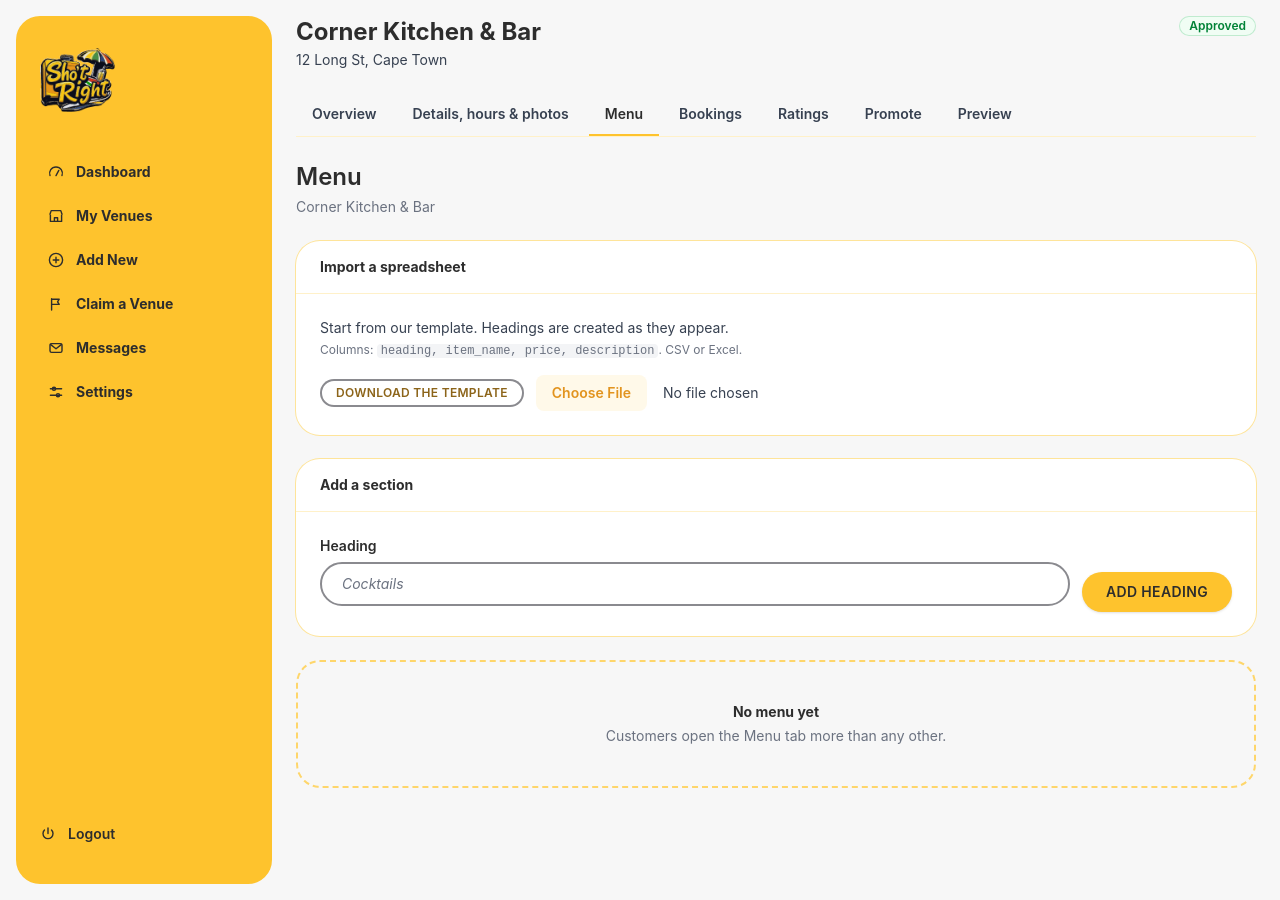
Test case: add a menu › creates a heading on the server
In the field labelled "Heading": (695, 584) [320, 562, 1070, 606], type "Starters"
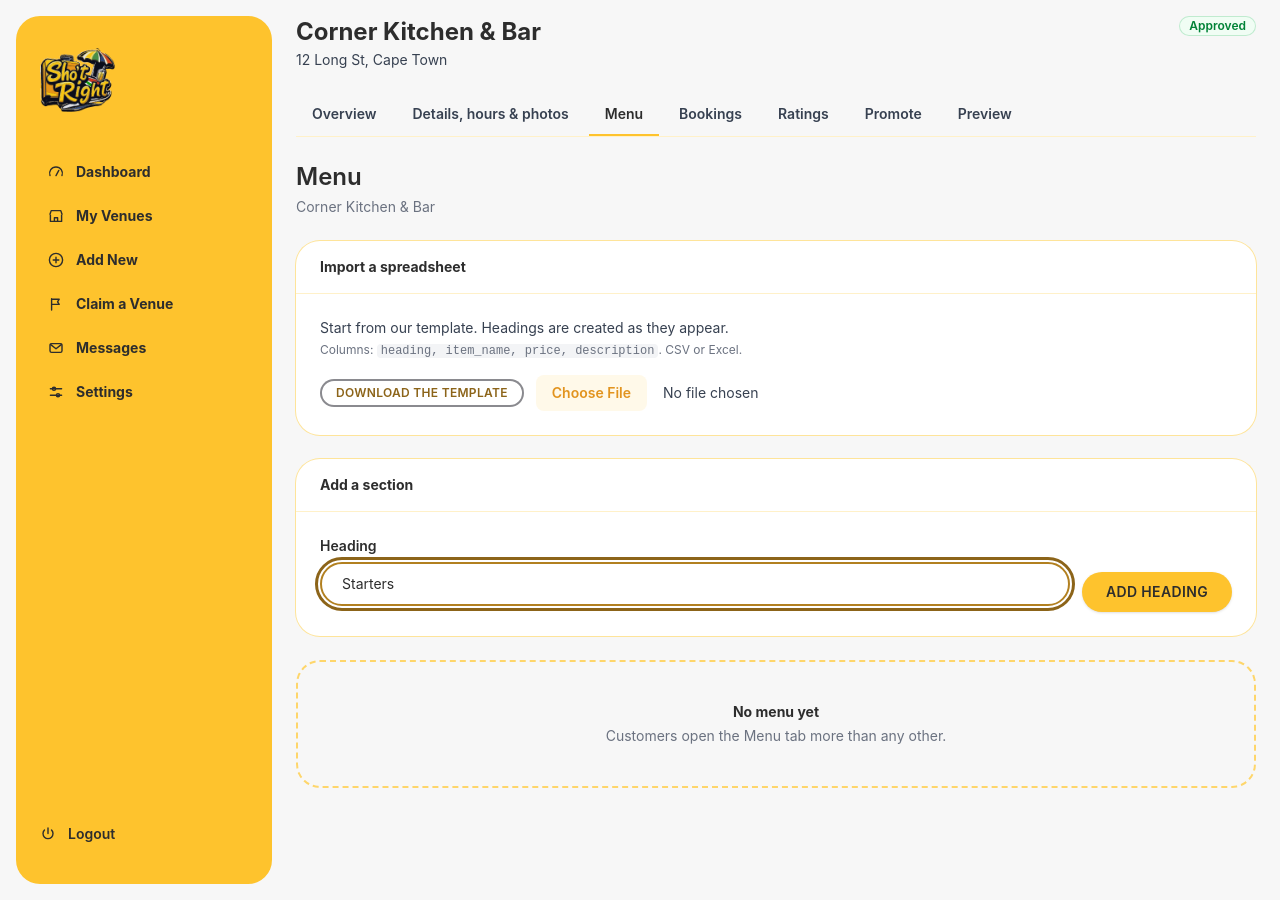
Click the button "Add heading": (1157, 592) [1082, 572, 1232, 612]
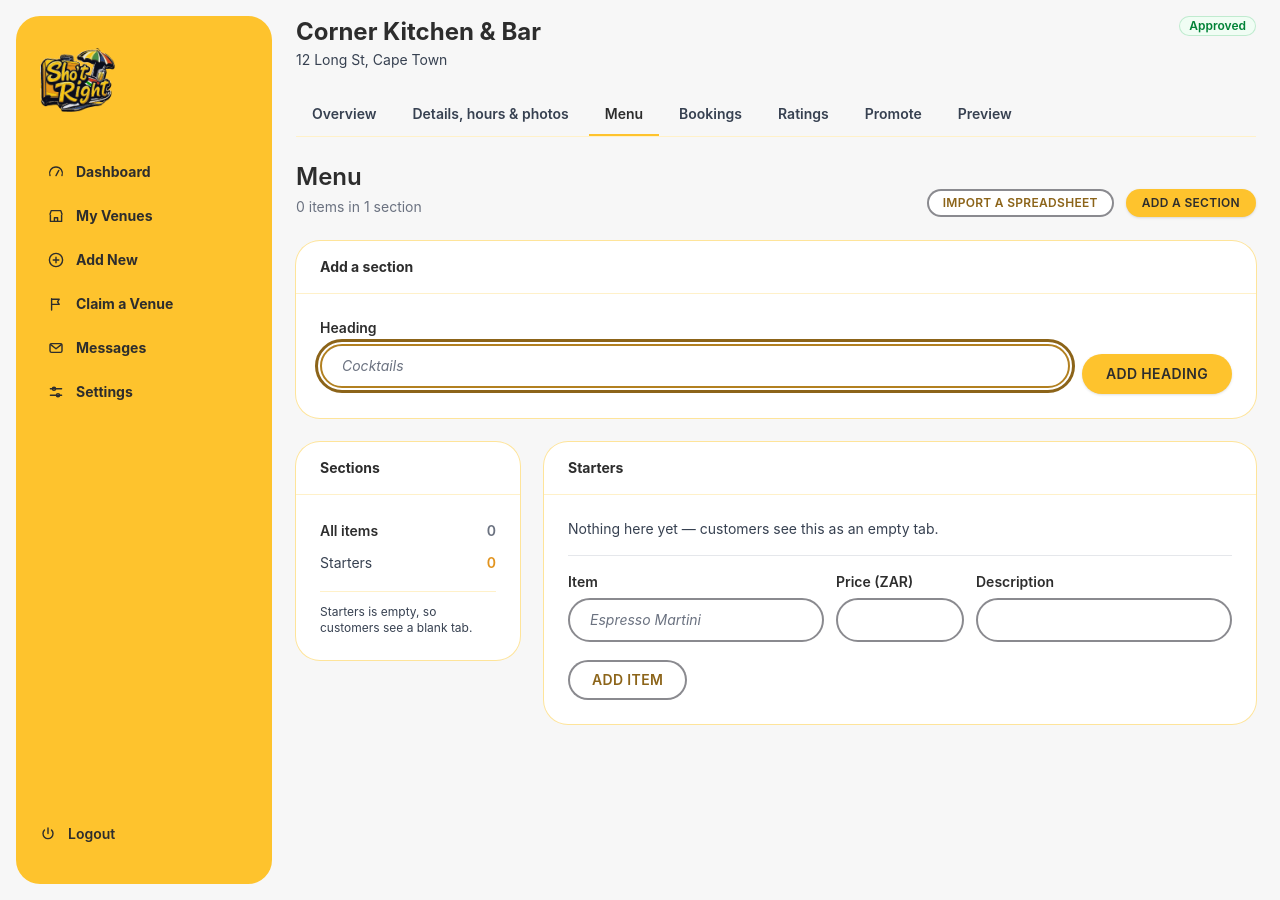
Expected: the heading "Starters" is shown, [568, 458, 623, 478]
